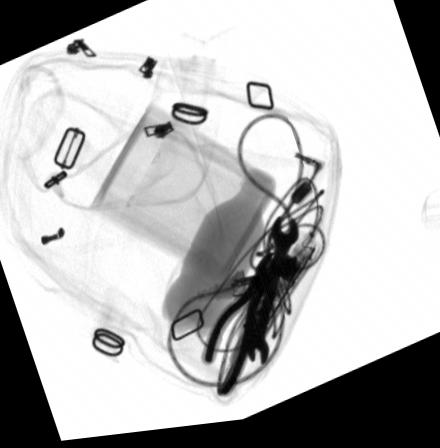Pliers: (203, 257, 283, 402)
Wrench: (246, 222, 299, 371)
